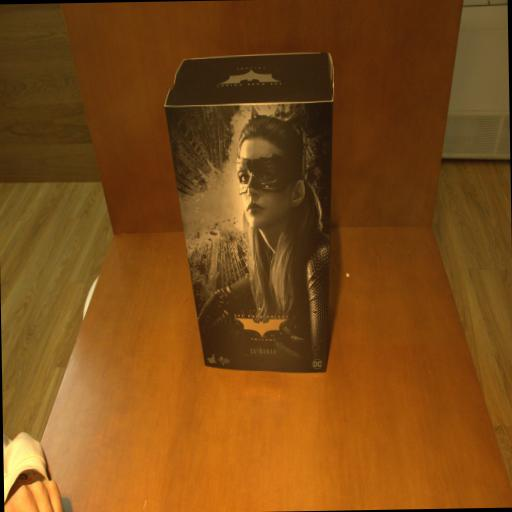catwoman: (163, 56, 339, 376)
